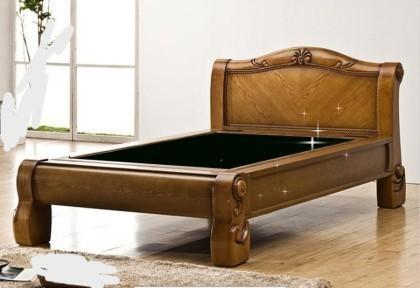Bed-Mattress: (22, 42, 411, 264)
